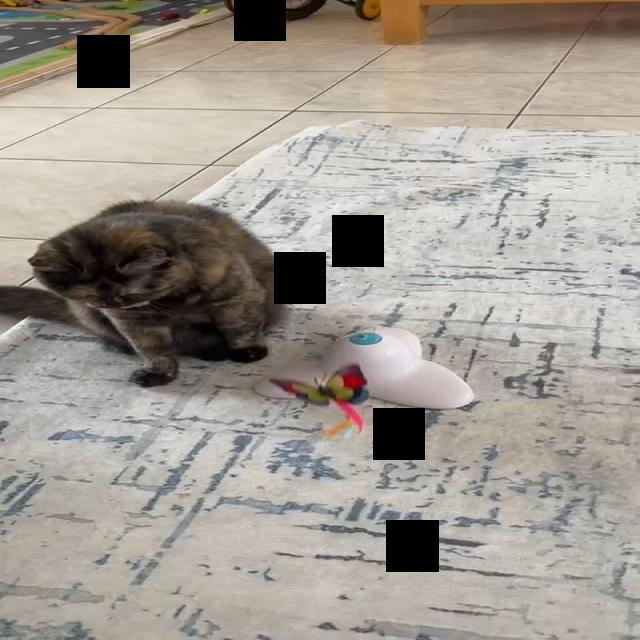authorized: (1, 198, 287, 386)
